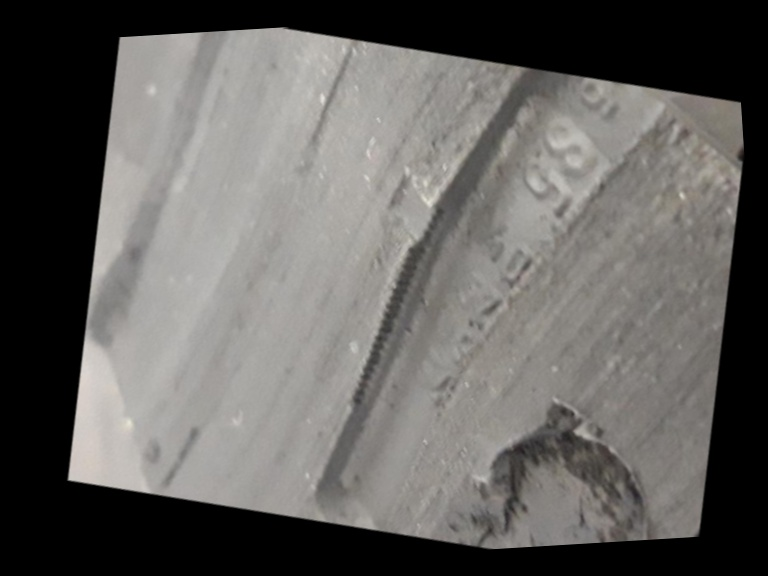temoin:0: (361, 153, 466, 271)
